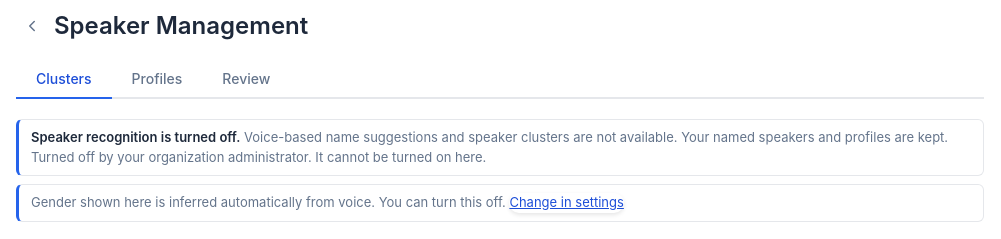
Test: speakers page privacy notice › follows the tab when the person switches tabs
Expected: the element with test id "voiceprints-off-notice" is shown, [16,119,984,176]
Click the button "Profiles": (157, 80) [112,60,202,99]
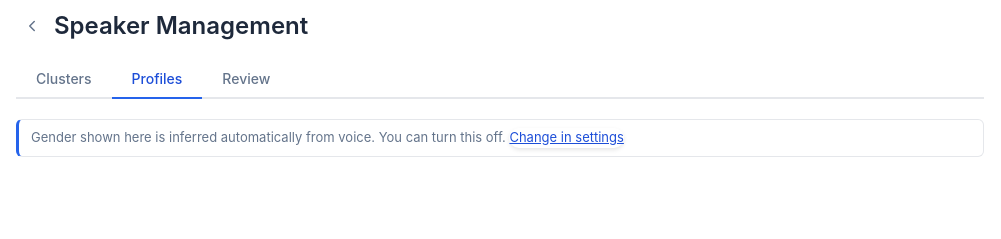
Expected: the element with test id "gender-inferred-notice" is shown, [16,119,984,156]
Expected: the element with test id "voiceprints-off-notice" is gone
Click the button with test id "speakers-tab-inbox": (246, 80) [202,60,290,99]
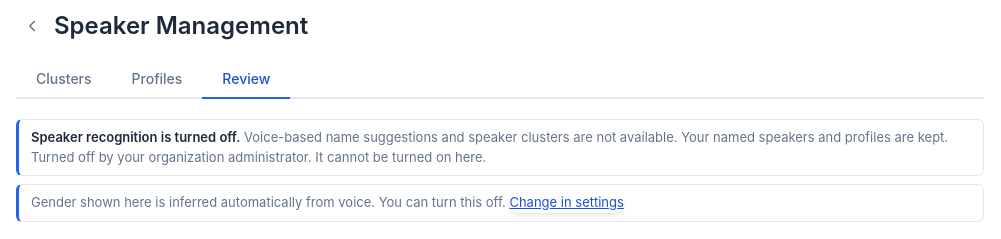
Expected: the element with test id "voiceprints-off-notice" is shown, [16,119,984,176]
